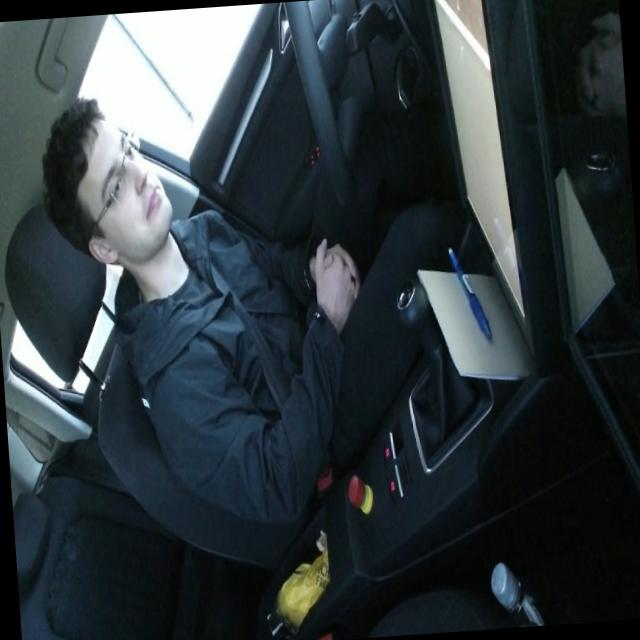pen: (446, 241, 492, 344)
